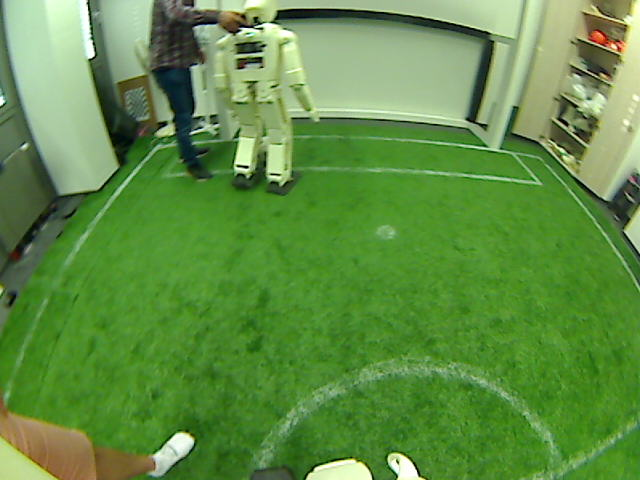goalpost: (215, 104, 237, 141), (484, 117, 505, 153)
robot: (236, 115, 290, 192)
